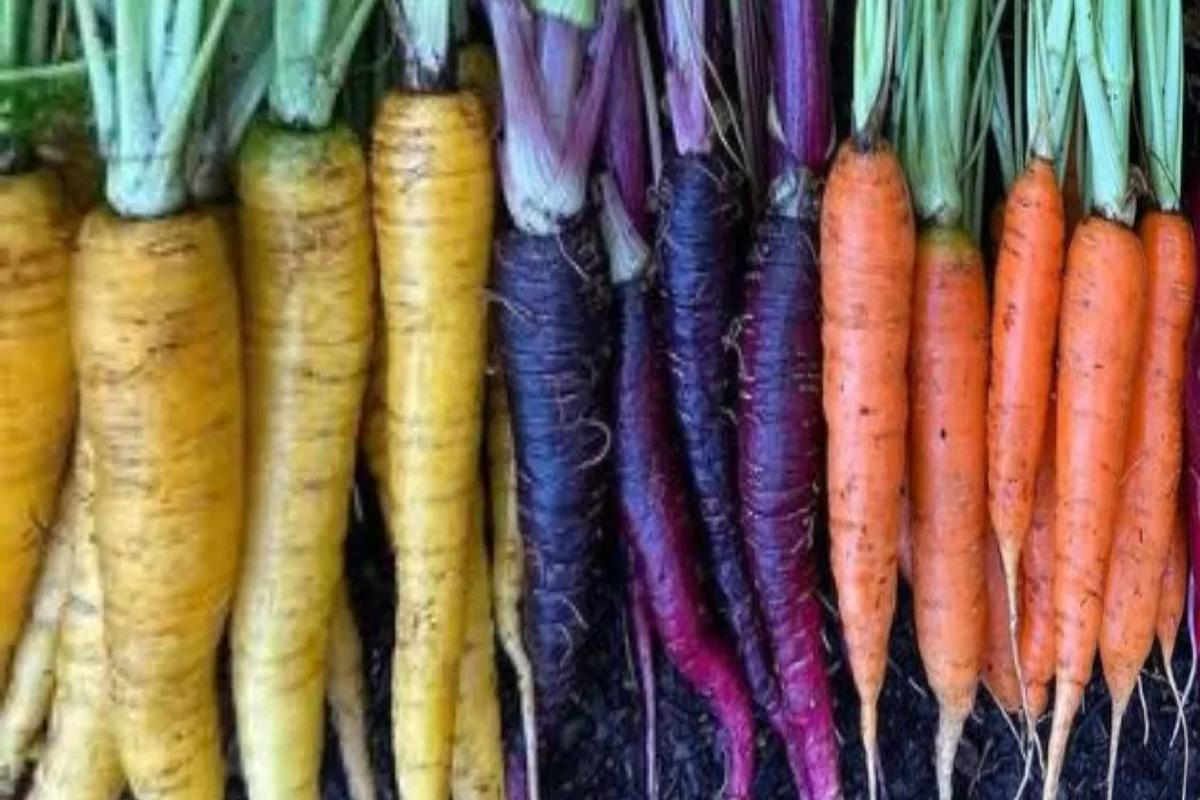carrot: (842, 5, 1197, 798), (917, 1, 1066, 800), (1072, 1, 1200, 793), (847, 0, 915, 733)
